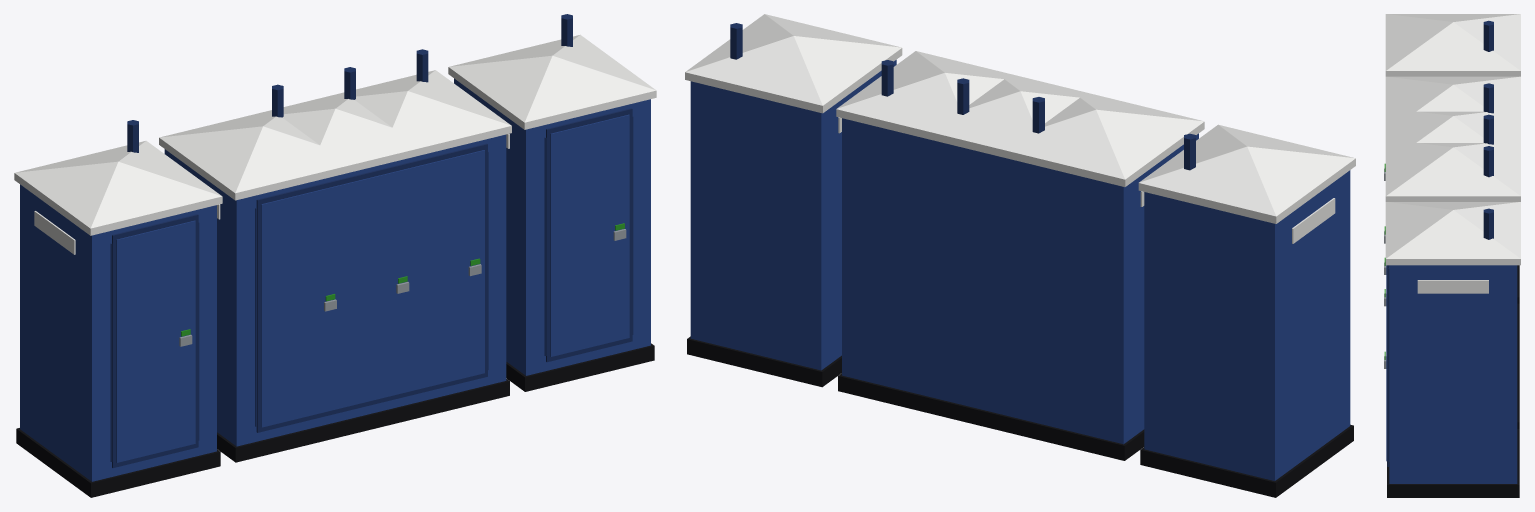
Rendered from toilets.glb.
3 views of the same model, side by side, from view 1: azimuth 30°, elevation 25°; view 2: azimuth 150°, elevation 25°; view 3: azimuth 270°, elevation 25° (orthographic). The views are drawn at different scales.
Parts seen in each view (by area): view 1: Four, One; view 2: Four, One; view 3: Four, One.
Boxes of the visible parts, box(x1,y1,x2,y2) form: Four: box(14, 14, 656, 497); One: box(233, 67, 437, 437); Four: box(685, 14, 1355, 497); One: box(911, 69, 1083, 442); Four: box(1384, 14, 1520, 497); One: box(1384, 111, 1520, 366).
Bounding box in the file's own units: 4.89 × 2.55 × 1.15.
